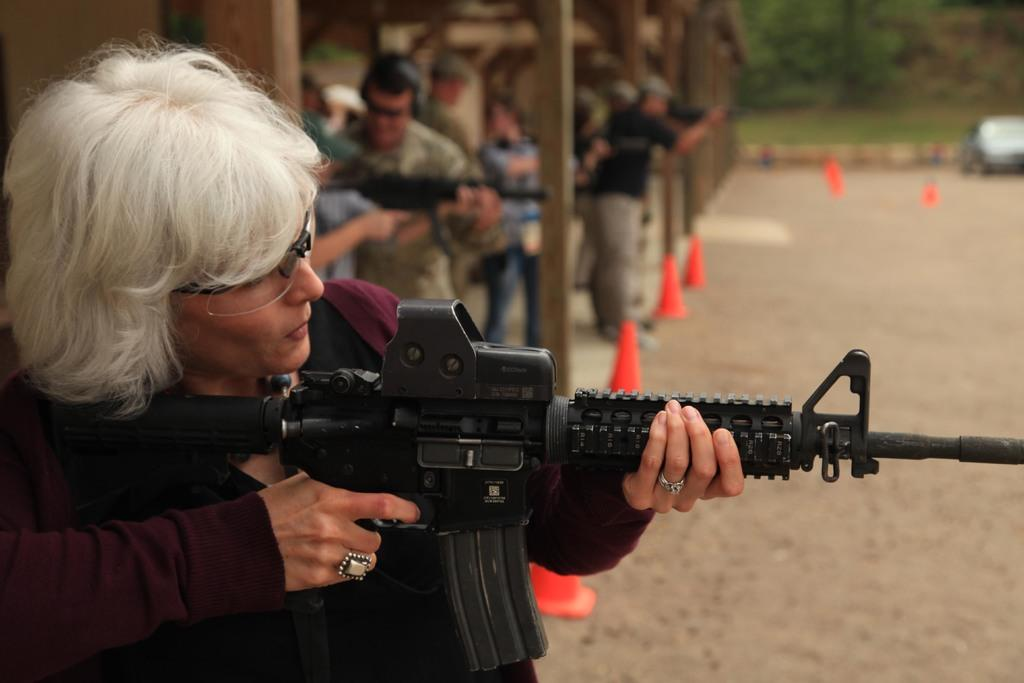Rifle: (52, 302, 1016, 668), (303, 151, 568, 263), (350, 163, 557, 229), (650, 103, 766, 124)
